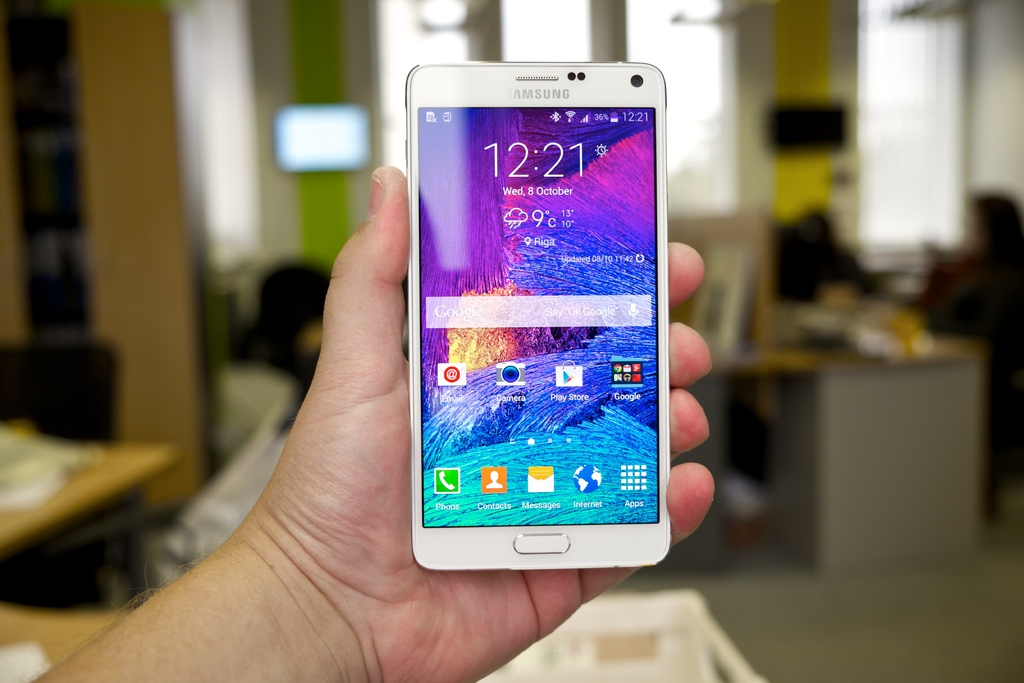Mobile-phone: (405, 59, 672, 576)
